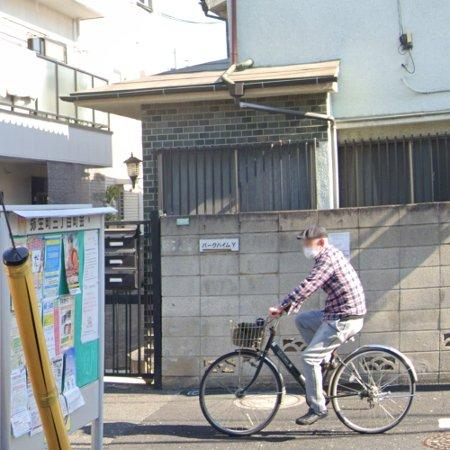bicycles: (200, 350, 283, 437)
